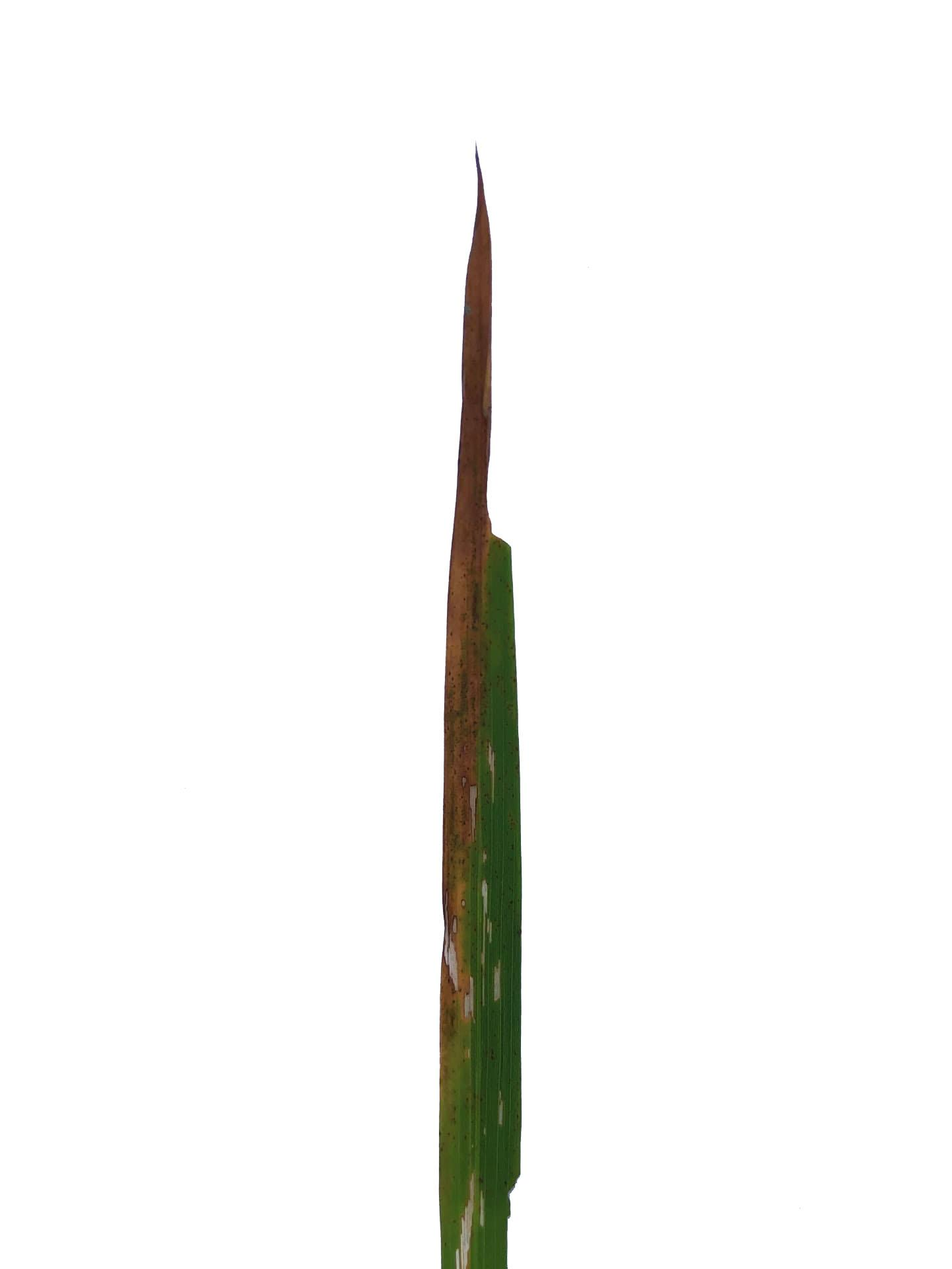Rice blast: (438, 161, 520, 1269)
